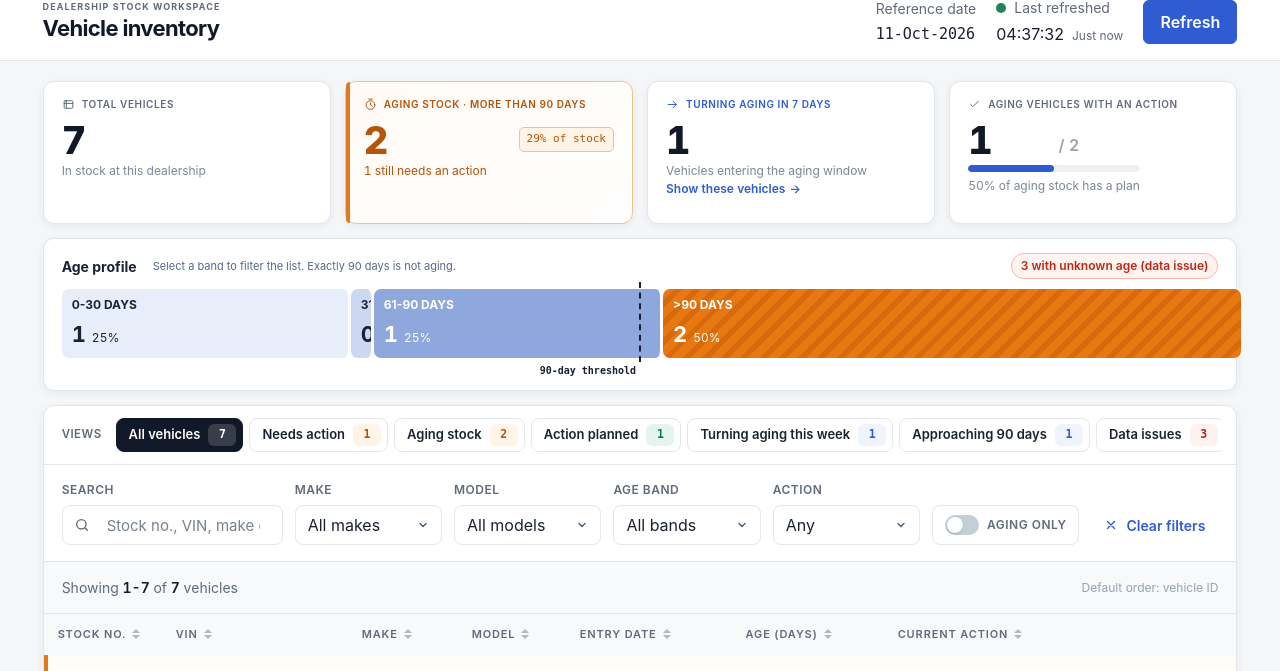
App › shows only aging vehicles when aging-only is enabled
Step 1. Click the checkbox labelled "Aging only" → (1006,525), box [932,505,1079,545]
(page scrolled)
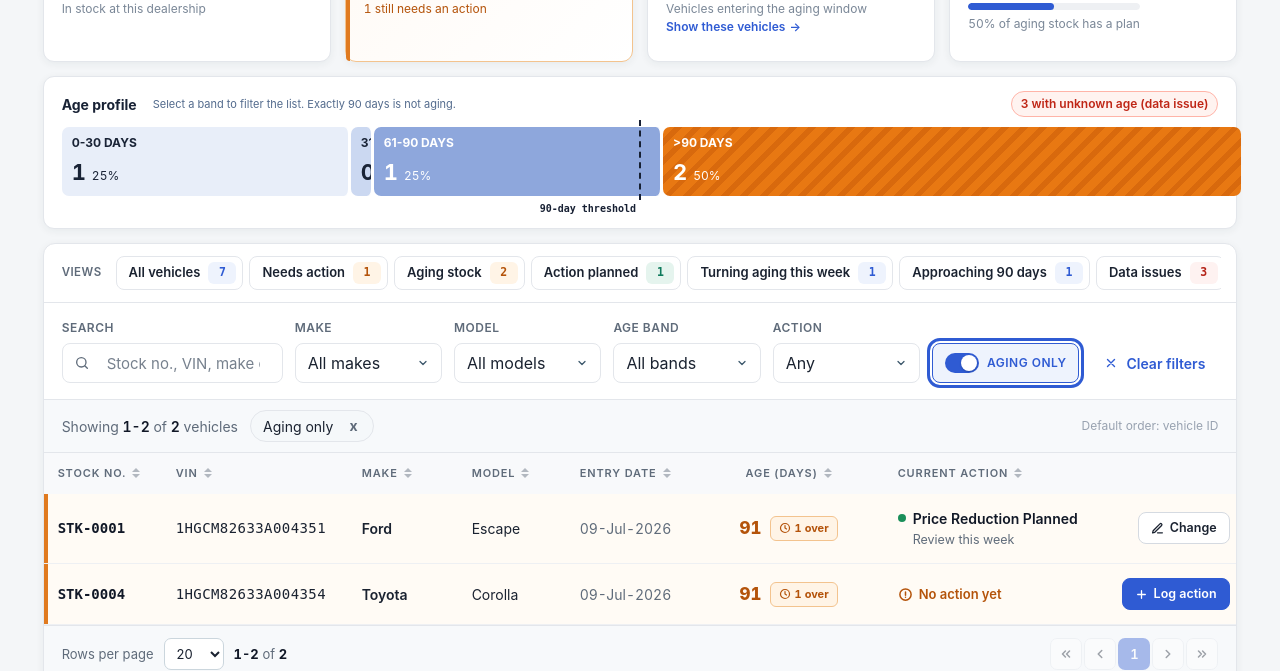
expect the row "STK-0001" is shown: met, box [44,494,1236,564]
expect the checkbox labelled "Aging only" is checked: met, box [932,343,1079,383]
expect the number of rows is 3: met, box [44,453,1236,494]; [44,494,1236,564]; [44,564,1236,625]
